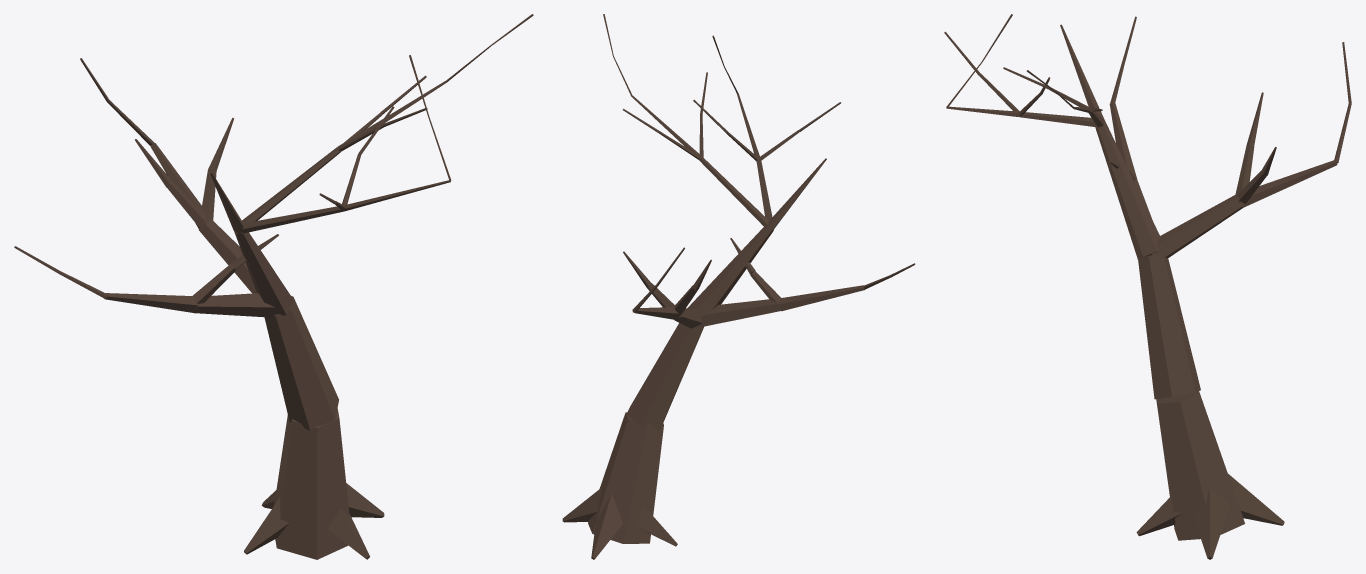
File: sample_tree.glb
The picture shows the model from 3 angles, left to right: view 1: azimuth 30°, elevation 25°; view 2: azimuth 150°, elevation 25°; view 3: azimuth 270°, elevation 25°; orthographic projection. The views are drawn at different scales.
Parts seen in each view (by area): view 1: Tree; view 2: Tree; view 3: Tree.
Part boxes in pixels (bbox=[...]): Tree: bbox=[14, 14, 533, 559]; Tree: bbox=[562, 14, 915, 559]; Tree: bbox=[944, 14, 1351, 559].
Bounding box in the file's own units: 9.28 × 11.05 × 7.87.
1 material, 1 textured.
